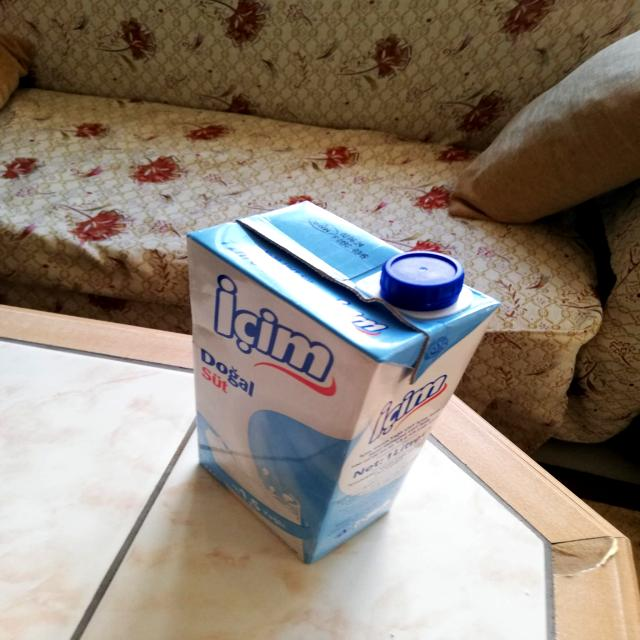milk: (172, 195, 485, 560)
